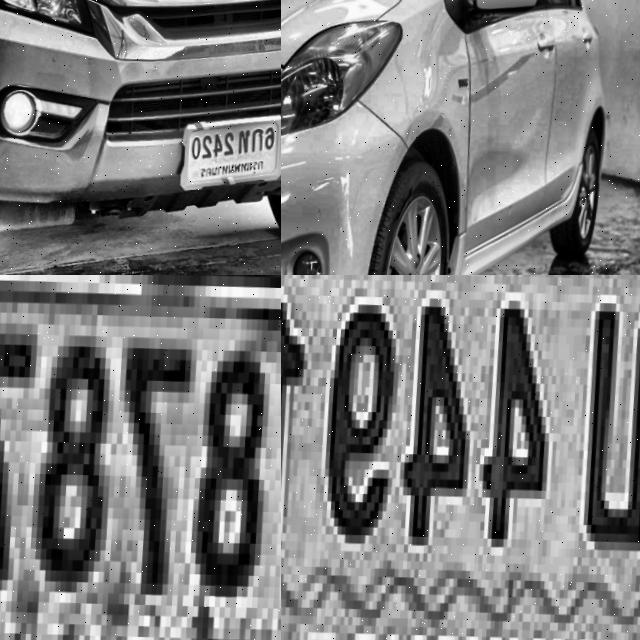license-plate: (281, 275, 640, 640), (0, 275, 281, 640), (184, 102, 281, 193)
